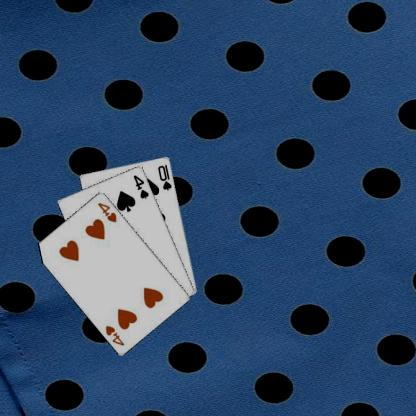10S: (157, 162, 175, 192)
4H: (104, 322, 128, 347), (97, 200, 120, 224)
4S: (133, 172, 152, 200)
